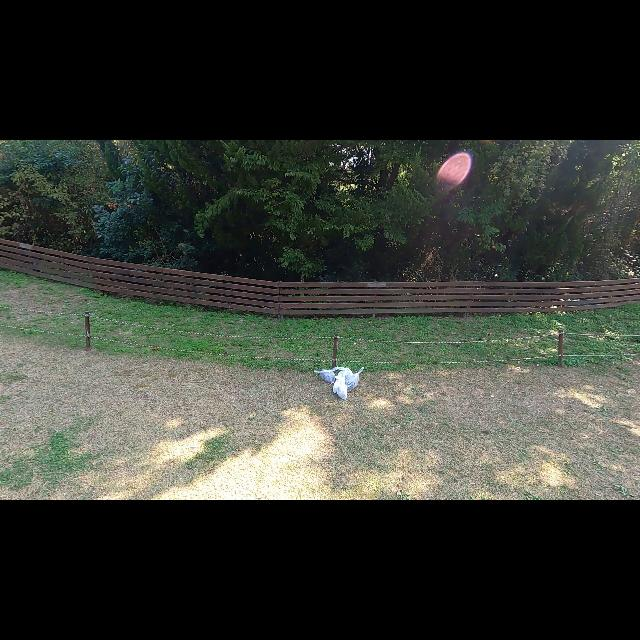trash: (347, 364, 365, 392), (313, 366, 339, 382), (333, 375, 349, 401), (338, 364, 354, 388)
